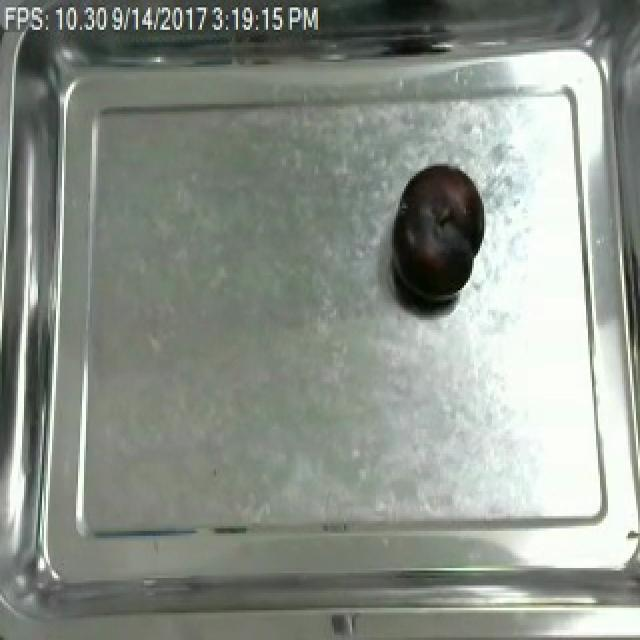Fruit: (386, 158, 488, 312)
